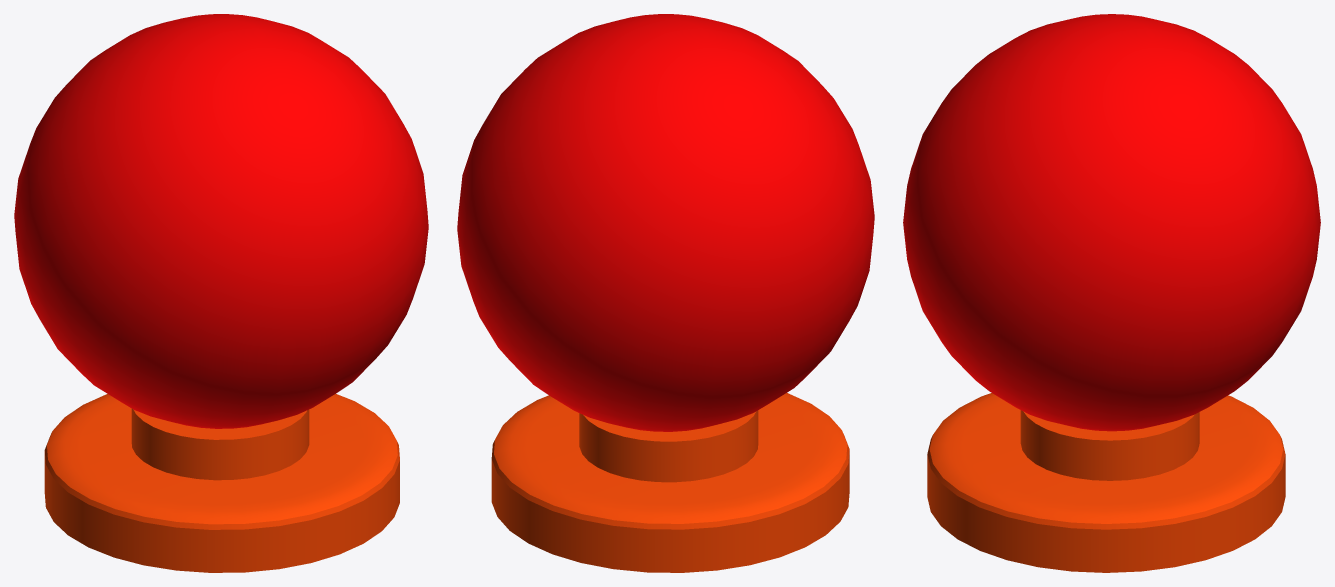
Rendered from GROSSE BOUL DE CRISTAL !.FBX.
The picture shows the model from 3 angles, left to right: view 1: azimuth 30°, elevation 25°; view 2: azimuth 150°, elevation 25°; view 3: azimuth 270°, elevation 25°; orthographic projection.
Visible parts, largest first — view 1: GROSSE BOUL DE CRISTAL !001; view 2: GROSSE BOUL DE CRISTAL !001; view 3: GROSSE BOUL DE CRISTAL !001.
Boxes of the visible parts, <box> form: GROSSE BOUL DE CRISTAL !001: <box>14,14,428,572</box>; GROSSE BOUL DE CRISTAL !001: <box>457,14,874,572</box>; GROSSE BOUL DE CRISTAL !001: <box>903,14,1320,572</box>.
Bounding box in the file's own units: 5.51 × 6.77 × 5.51.
